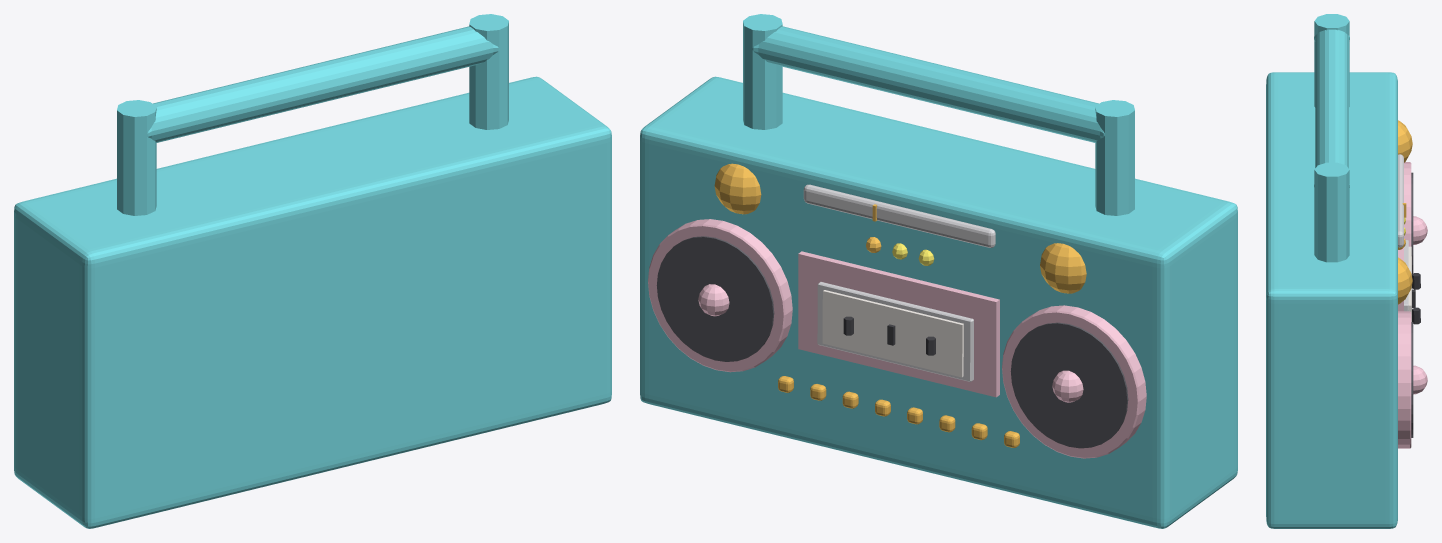
File: casClosed.glb
The picture shows the model from 3 angles, left to right: view 1: azimuth 30°, elevation 25°; view 2: azimuth 150°, elevation 25°; view 3: azimuth 270°, elevation 25°; orthographic projection. The views are drawn at different scales.
Visible parts, largest first — view 1: Body, HandleBar, HandleLegR; view 2: Body, SpeakerGrille_R, HandleBar, SpeakerRing_R, CassetteBay, HandleLegR, TapeBG, TunerBar, Knob_R, CassetteWindow, DustCap_R; view 3: Body, HandleBar, HandleLegR, SpeakerRing_R, Knob_R, DustCap_R, SpeakerGrille_R, TunerBar.
Part boxes in pixels (x1,y1,x2,y2): Body: (14, 76, 611, 528); HandleBar: (146, 26, 499, 142); HandleLegR: (117, 14, 508, 215); Body: (640, 76, 1237, 528); SpeakerGrille_R: (656, 236, 1128, 448); HandleBar: (752, 26, 1105, 142); SpeakerRing_R: (648, 219, 1146, 458); CassetteBay: (798, 251, 999, 397); HandleLegR: (743, 14, 1134, 215); TapeBG: (822, 290, 963, 377); TunerBar: (803, 184, 995, 247); Knob_R: (714, 163, 1086, 293); CassetteWindow: (817, 282, 973, 381); DustCap_R: (698, 284, 1083, 402); Body: (1266, 72, 1397, 528); HandleBar: (1314, 29, 1349, 187); HandleLegR: (1314, 14, 1349, 262); SpeakerRing_R: (1398, 162, 1411, 448); Knob_R: (1398, 120, 1412, 304); DustCap_R: (1413, 216, 1427, 394); SpeakerGrille_R: (1411, 172, 1413, 437); TunerBar: (1398, 154, 1403, 247).
Size of the model in its own units: 4.42 by 3 by 1.35.
